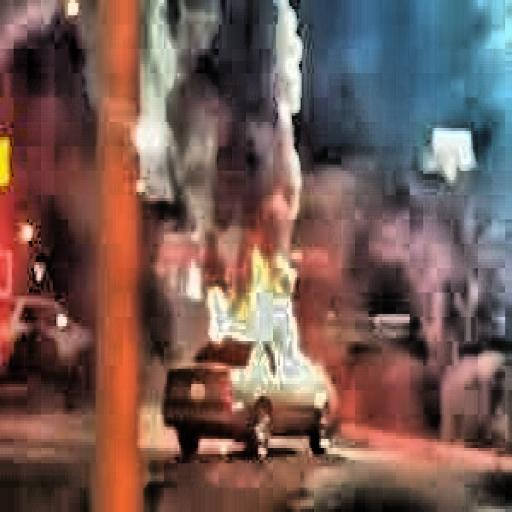fire: (186, 247, 335, 408)
